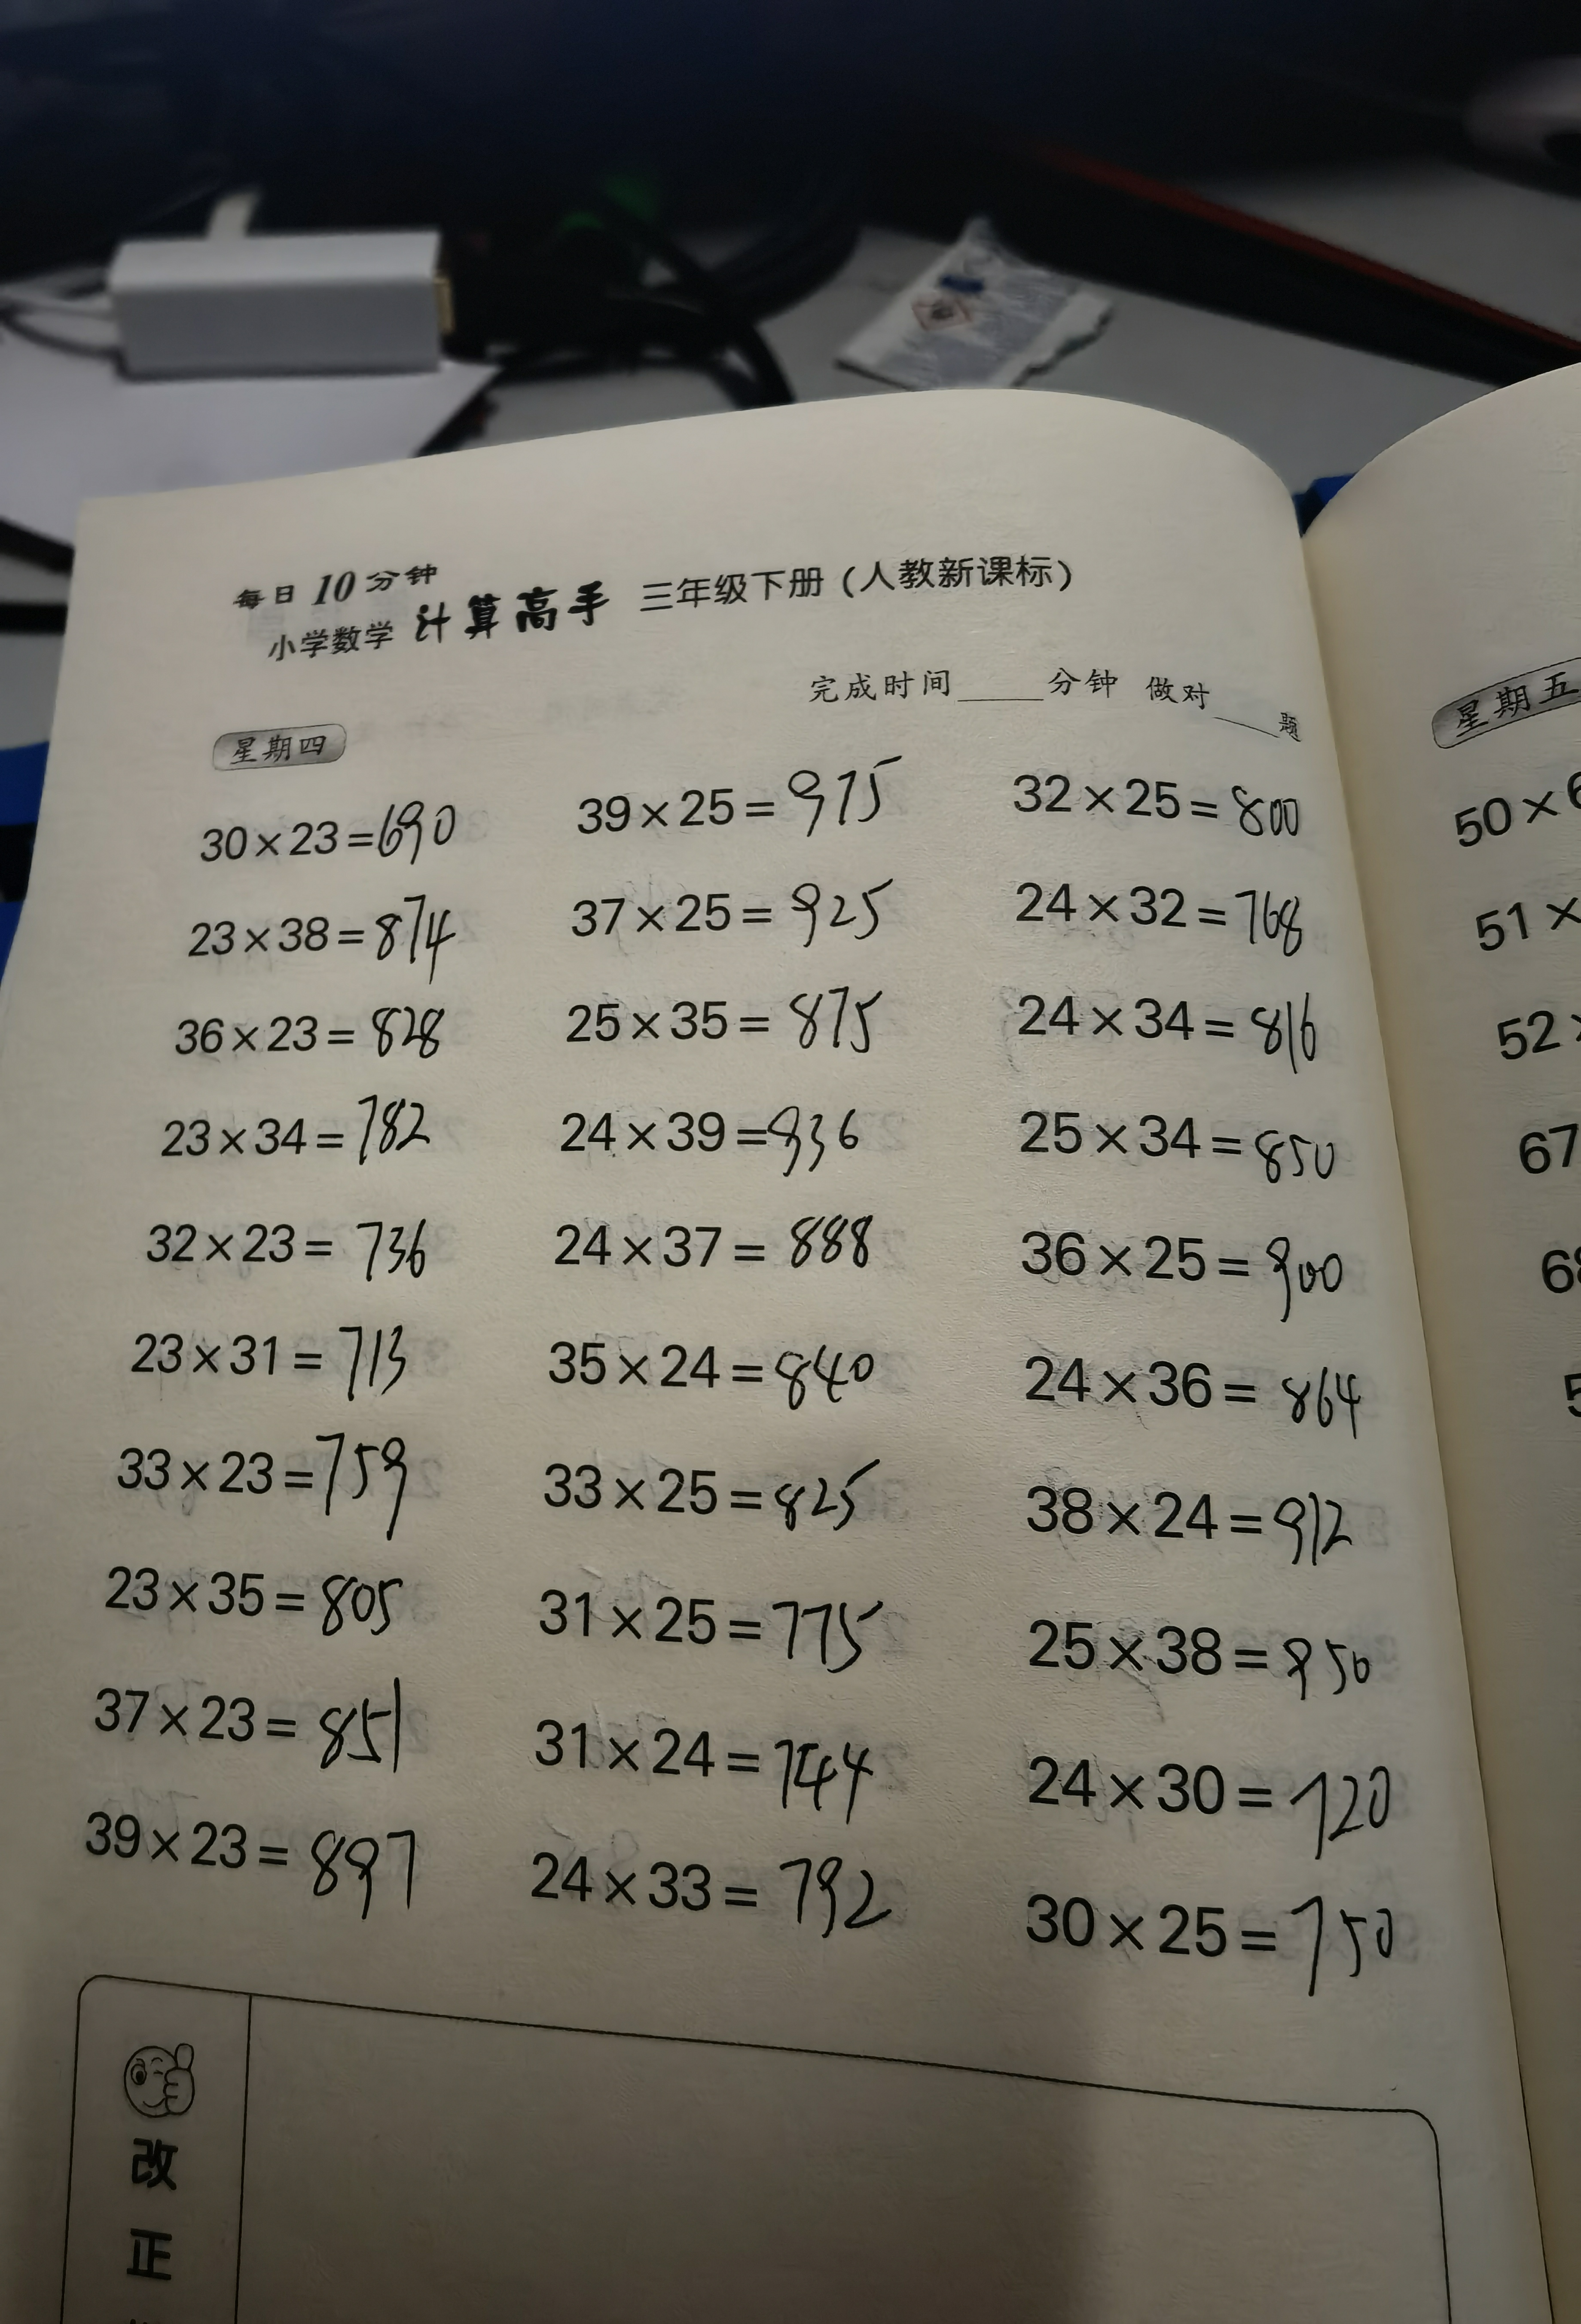equation: (1004, 1860, 1425, 2008), (504, 1841, 927, 1977), (513, 1688, 915, 1831), (54, 1795, 449, 1937), (1001, 1731, 1401, 1858), (518, 1291, 915, 1416), (1011, 1325, 1386, 1451), (998, 1203, 1376, 1325), (58, 1428, 422, 1552), (109, 1165, 467, 1291), (516, 1446, 894, 1564), (1008, 1609, 1388, 1724), (68, 1667, 446, 1783), (1018, 1468, 1381, 1581), (518, 1196, 898, 1303), (539, 1079, 912, 1183), (83, 1545, 417, 1660), (121, 782, 482, 880), (998, 751, 1322, 859), (996, 1092, 1358, 1186), (535, 1587, 908, 1678), (1008, 971, 1348, 1071), (104, 894, 489, 982), (551, 978, 905, 1069), (554, 761, 919, 847), (121, 1298, 439, 1391), (123, 987, 455, 1071), (996, 877, 1333, 959), (563, 877, 900, 957), (133, 1090, 467, 1159)
